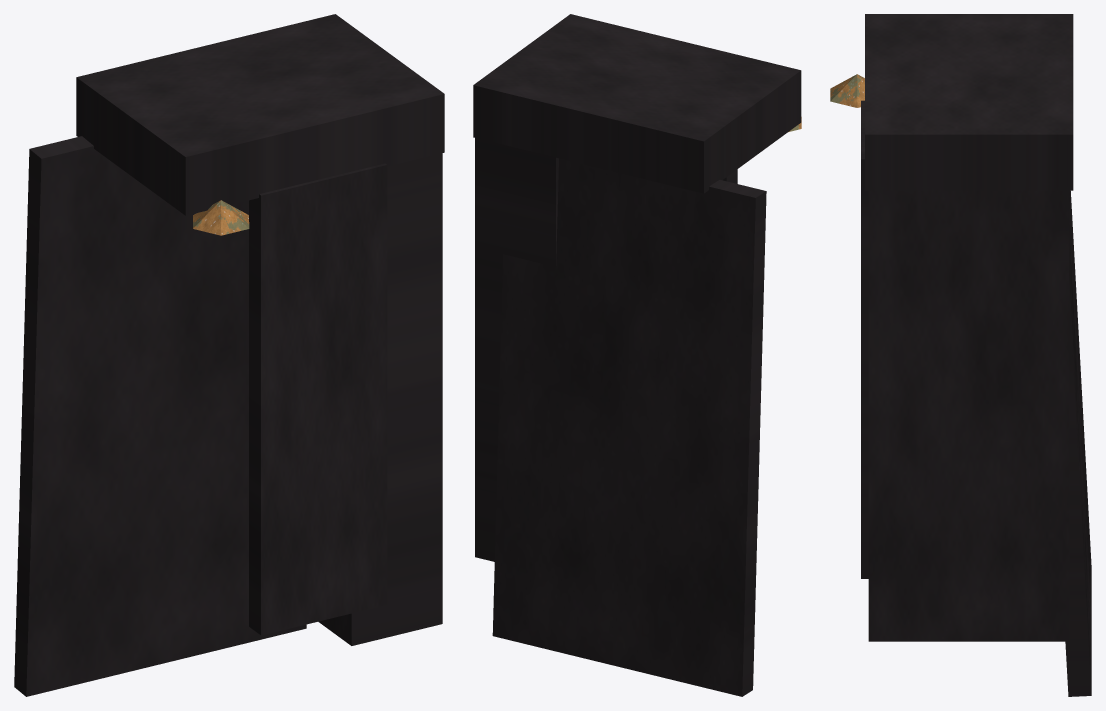
File: rival_half_cloak.obj
The picture shows the model from 3 angles, left to right: view 1: azimuth 30°, elevation 25°; view 2: azimuth 150°, elevation 25°; view 3: azimuth 270°, elevation 25°; orthographic projection. The views are drawn at different scales.
Parts seen in each view (by area): view 1: rival_half_cloak; view 2: rival_half_cloak; view 3: rival_half_cloak.
Boxes of the visible parts, <box> form: rival_half_cloak: <box>14,14,444,696</box>; rival_half_cloak: <box>473,14,801,696</box>; rival_half_cloak: <box>830,14,1091,696</box>.
Bounding box in the file's own units: 0.5562 × 1.03 × 0.423.
